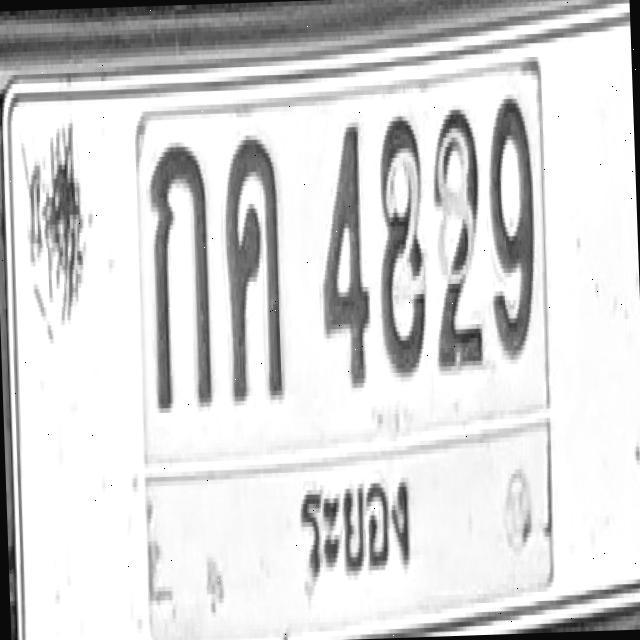10GorGai: (146, 139, 213, 410)
13KhorKhwai: (221, 132, 285, 399)
4: (316, 120, 372, 386)
9: (486, 95, 538, 357)
Rayong: (292, 436, 414, 585)
